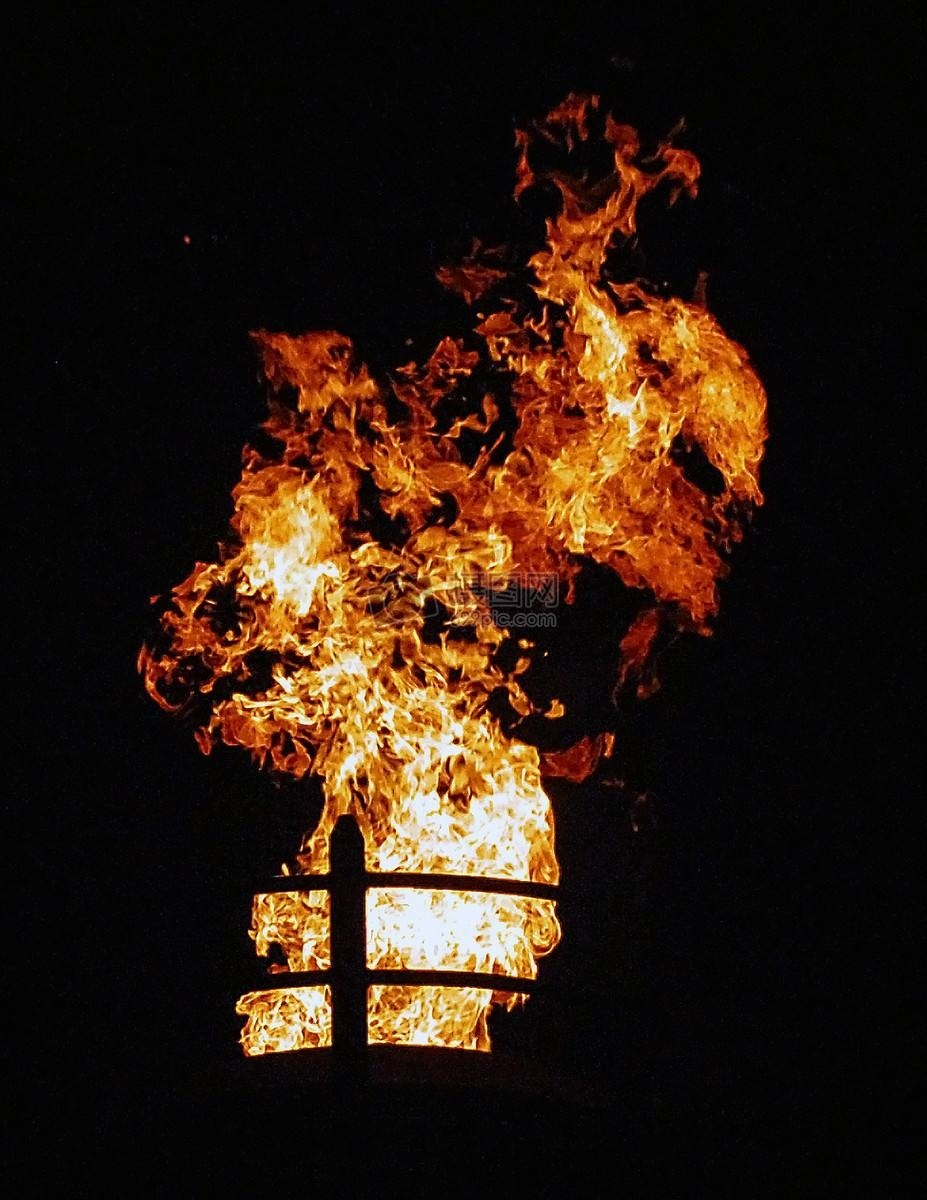fire: (179, 241, 762, 1086)
